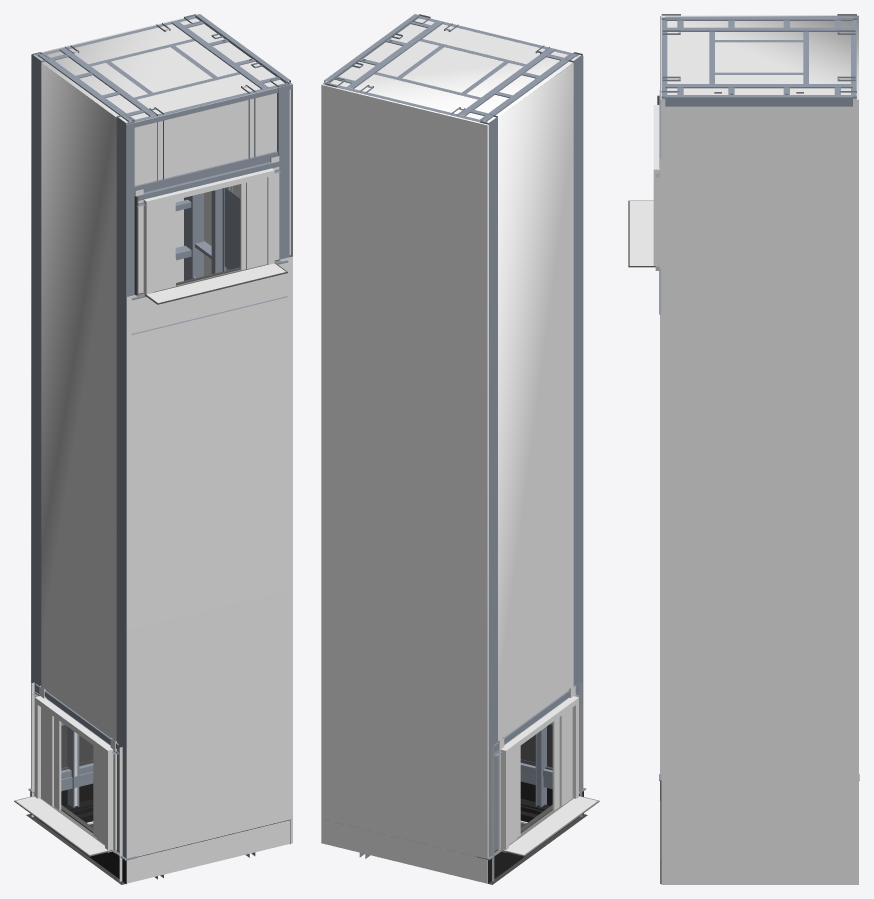
Rendered from SM_H_Building_Tide_WaterDungeon_05_ATLAS.fbx.
3 views of the same model, side by side, from view 1: azimuth 30°, elevation 25°; view 2: azimuth 150°, elevation 25°; view 3: azimuth 270°, elevation 25° (orthographic). The views are drawn at different scales.
Visible parts, largest first — view 1: SM_H_Building_Tide_WaterDungeon_05_ATLAS; view 2: SM_H_Building_Tide_WaterDungeon_05_ATLAS; view 3: SM_H_Building_Tide_WaterDungeon_05_ATLAS.
Boxes of the visible parts, bbox=[...] form: SM_H_Building_Tide_WaterDungeon_05_ATLAS: bbox=[14, 14, 292, 884]; SM_H_Building_Tide_WaterDungeon_05_ATLAS: bbox=[321, 14, 599, 884]; SM_H_Building_Tide_WaterDungeon_05_ATLAS: bbox=[628, 14, 859, 884].
Size of the model in its own units: 488 by 488 by 1852.
